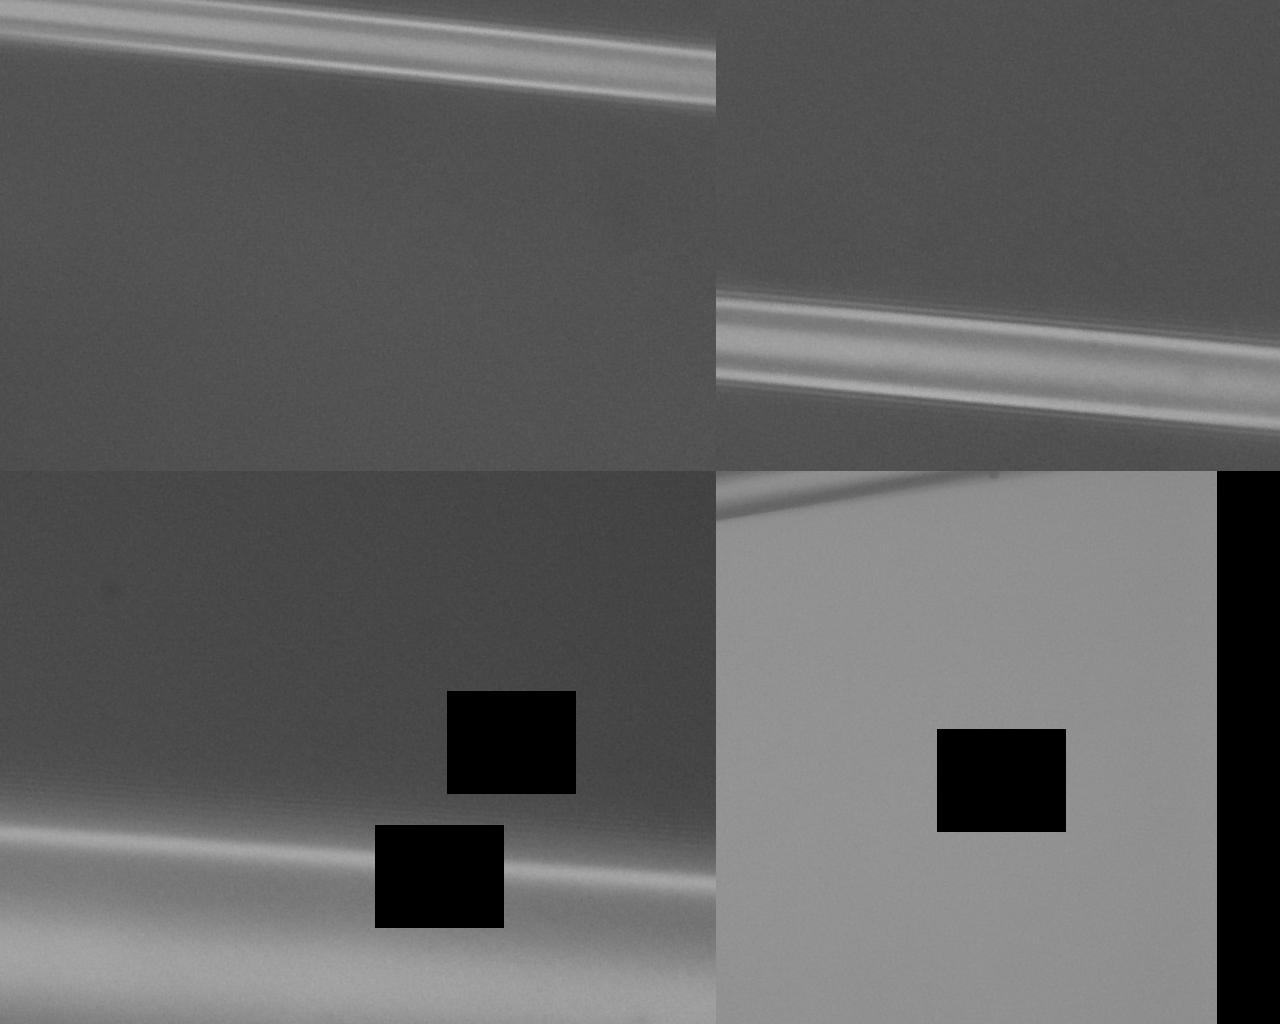fiber: (122, 522, 358, 1024), (818, 522, 900, 1024), (779, 0, 834, 522)
